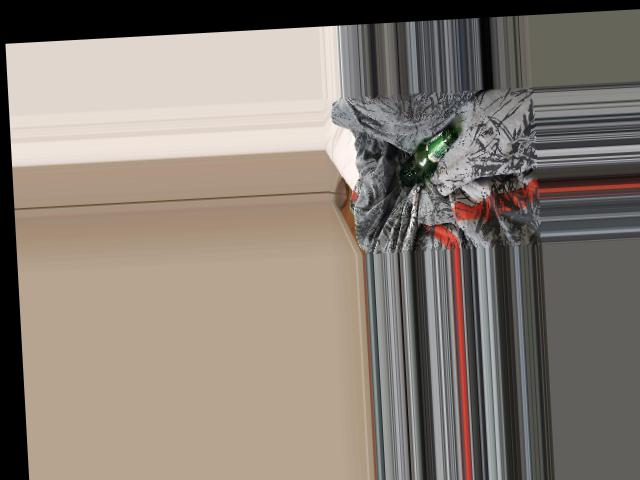beer: (398, 125, 461, 186)
